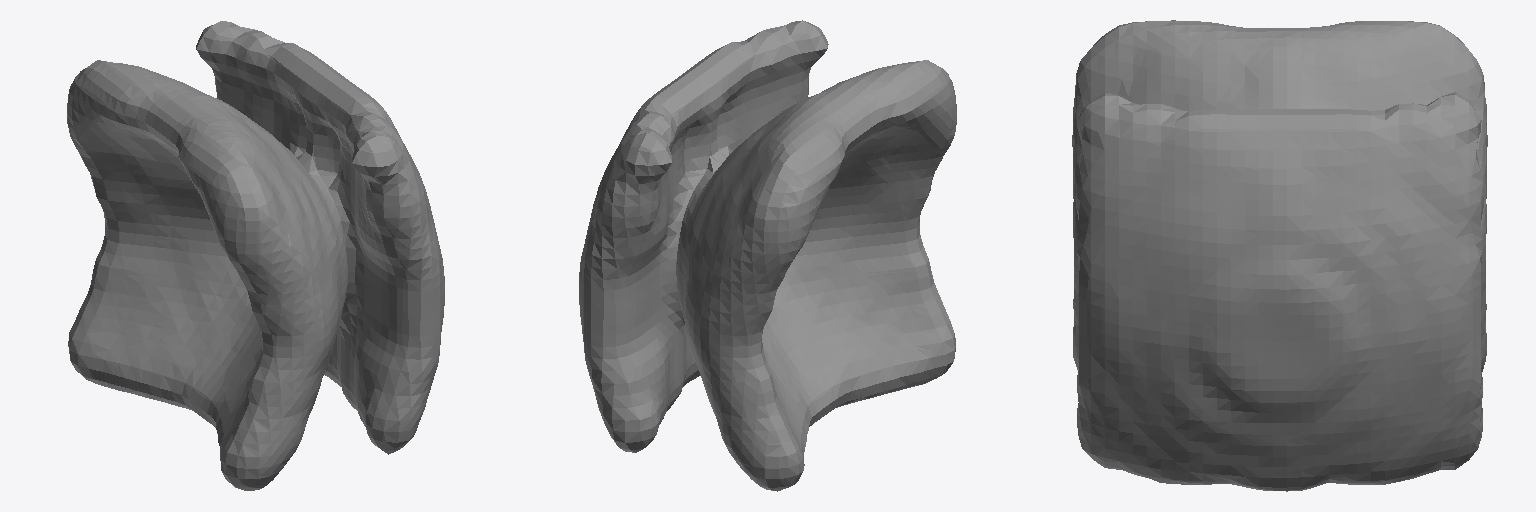
The robot description file, URDF, robot "cube.urdf":
<?xml version="0.0" ?> 
<robot name="cube.urdf"> 
<link name="legobrick"> 
<contact> 
<lateral_friction value="5.0"/> 
<rolling_friction value="0.0"/> 
<contact_cfm value="0.0"/> 
<contact_erp value="1.0"/> 
</contact> 
<inertial> 
<origin rpy="0 0 0" xyz="0.0 0.0 0.0"/> 
<mass value=".01"/> 
<inertia ixx="1" ixy="0" ixz="0" iyy="1" iyz="0" izz="1"/> 
</inertial> 
<visual> 
<origin rpy="1.570796 0 0" xyz="-0.02000136466994687 0.025841509085749254 -0.025958209145341023"/> 
<geometry> 
<mesh filename="O09_3.obj" scale="0.0005634176646222342 0.0005634176646222342 0.0005634176646222342"/> 
</geometry> 
<material name="yellow"> 
<color rgba="0.6 0.6 0.6 1"/> 
</material> 
</visual> 
<collision> 
<origin rpy="1.570796 0 0" xyz="-0.02000136466994687 0.025841509085749254 -0.025958209145341023"/> 
<geometry> 
<mesh filename="O09_3.obj" scale="0.0005634176646222342 0.0005634176646222342 0.0005634176646222342"/> 
</geometry> 
</collision> 
</link> 
</robot>

--- Facts derived from the render (not from the file) ---
Views: 3 orthographic renders of the robot side by side, from view 1: azimuth 30°, elevation 25°; view 2: azimuth 150°, elevation 25°; view 3: azimuth 270°, elevation 25°.
Robot: cube.urdf — 1 links, 0 joints (none); root link legobrick; default pose: all joints at 0.
Visible links, largest first — view 1: legobrick; view 2: legobrick; view 3: legobrick.
Link boxes in pixels (x1=…): legobrick: x1=67, y1=21, x2=444, y2=490; legobrick: x1=579, y1=20, x2=956, y2=491; legobrick: x1=1072, y1=20, x2=1487, y2=491.
Size in the robot's own frame: 0.0454 by 0.0561 by 0.056 metres.
1 mesh visuals loaded from 1 distinct referenced files (1 OBJ).
